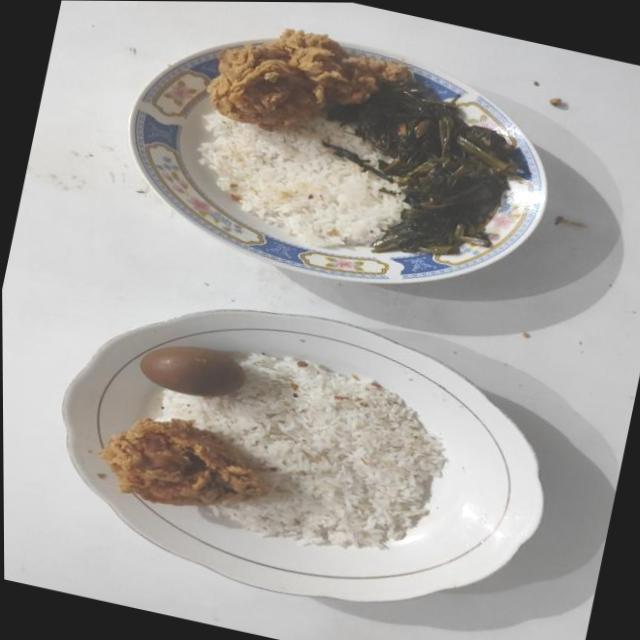nasi_putih: (154, 353, 448, 549), (198, 114, 408, 247)
tumis_kangkung: (322, 78, 521, 255)
